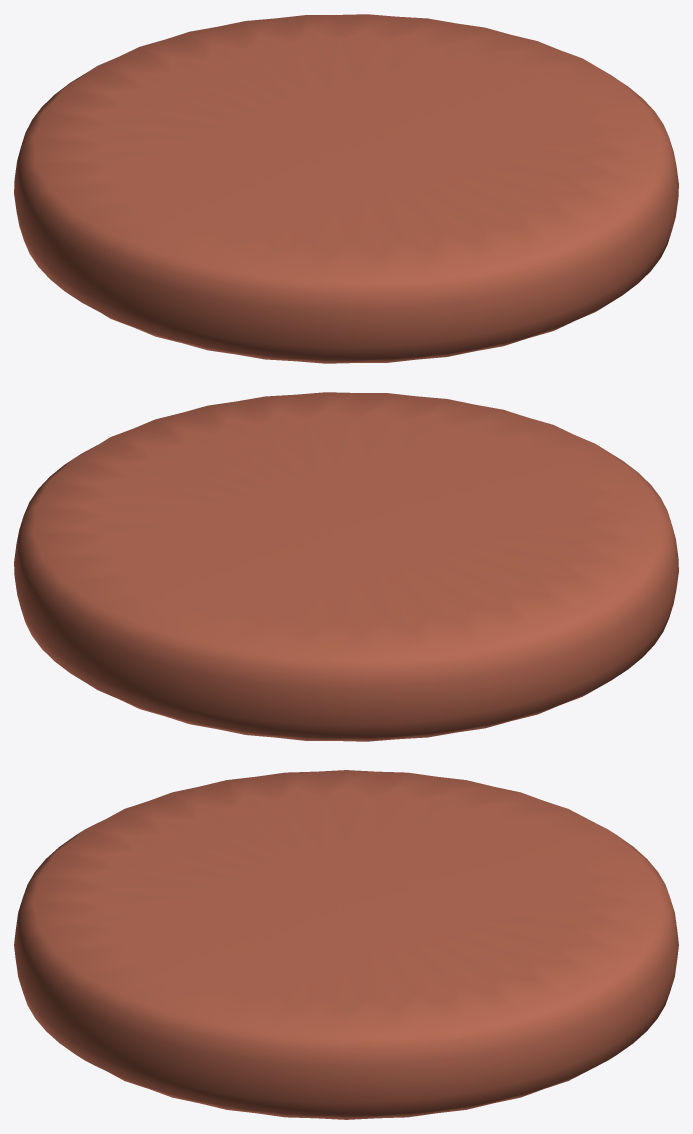
Rendered from steakPASCUIT.fbx.
3 views of the same model, one above another, from view 1: azimuth 30°, elevation 25°; view 2: azimuth 150°, elevation 25°; view 3: azimuth 270°, elevation 25° (orthographic).
Parts seen in each view (by area): view 1: Circle; view 2: Circle; view 3: Circle.
Part boxes in pixels (x1,y1,x2,y2): Circle: [14, 14, 678, 363]; Circle: [14, 392, 678, 741]; Circle: [14, 770, 678, 1119].
Bounding box in the file's own units: 202 × 32.24 × 202.
